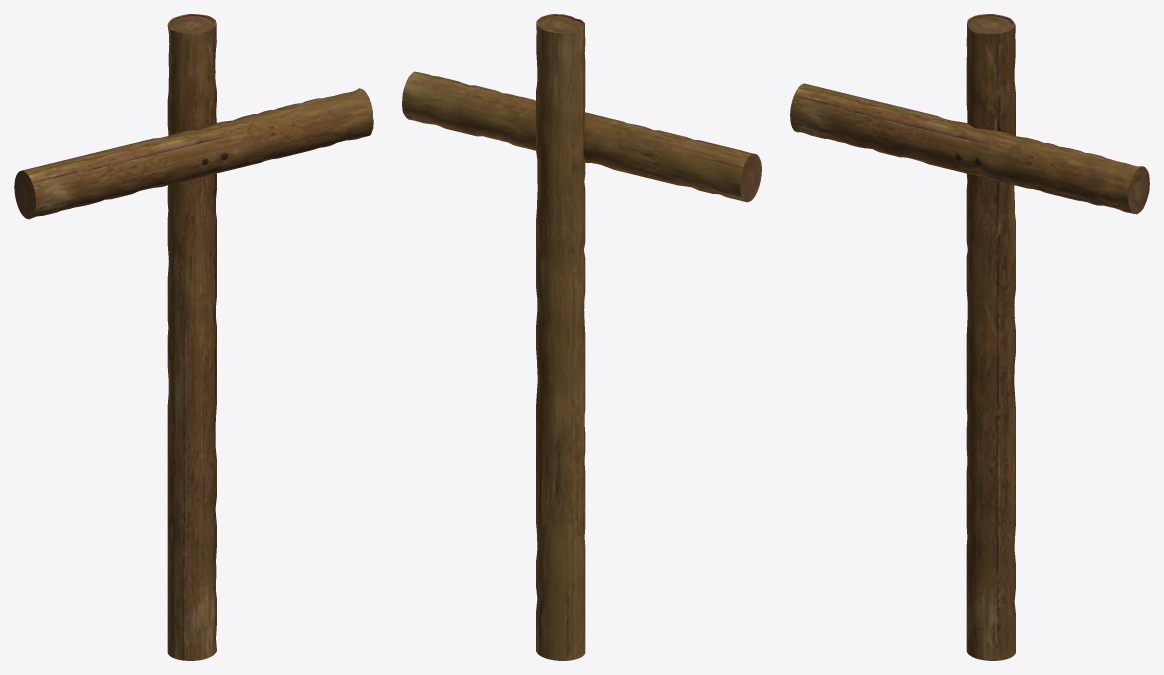
Rendered from obj_empty_cross.glb.
3 renders of one model, left to right at view 1: azimuth 30°, elevation 25°; view 2: azimuth 150°, elevation 25°; view 3: azimuth 330°, elevation 25°, orthographic.
Visible parts, largest first — view 1: Object_2; view 2: Object_2; view 3: Object_2.
Boxes of the visible parts, bbox=[...] form: Object_2: bbox=[14, 14, 373, 660]; Object_2: bbox=[402, 14, 761, 660]; Object_2: bbox=[790, 14, 1149, 660].
Bounding box in the file's own units: 0.3387 × 0.6 × 0.0599.
1 material, 1 textured.
